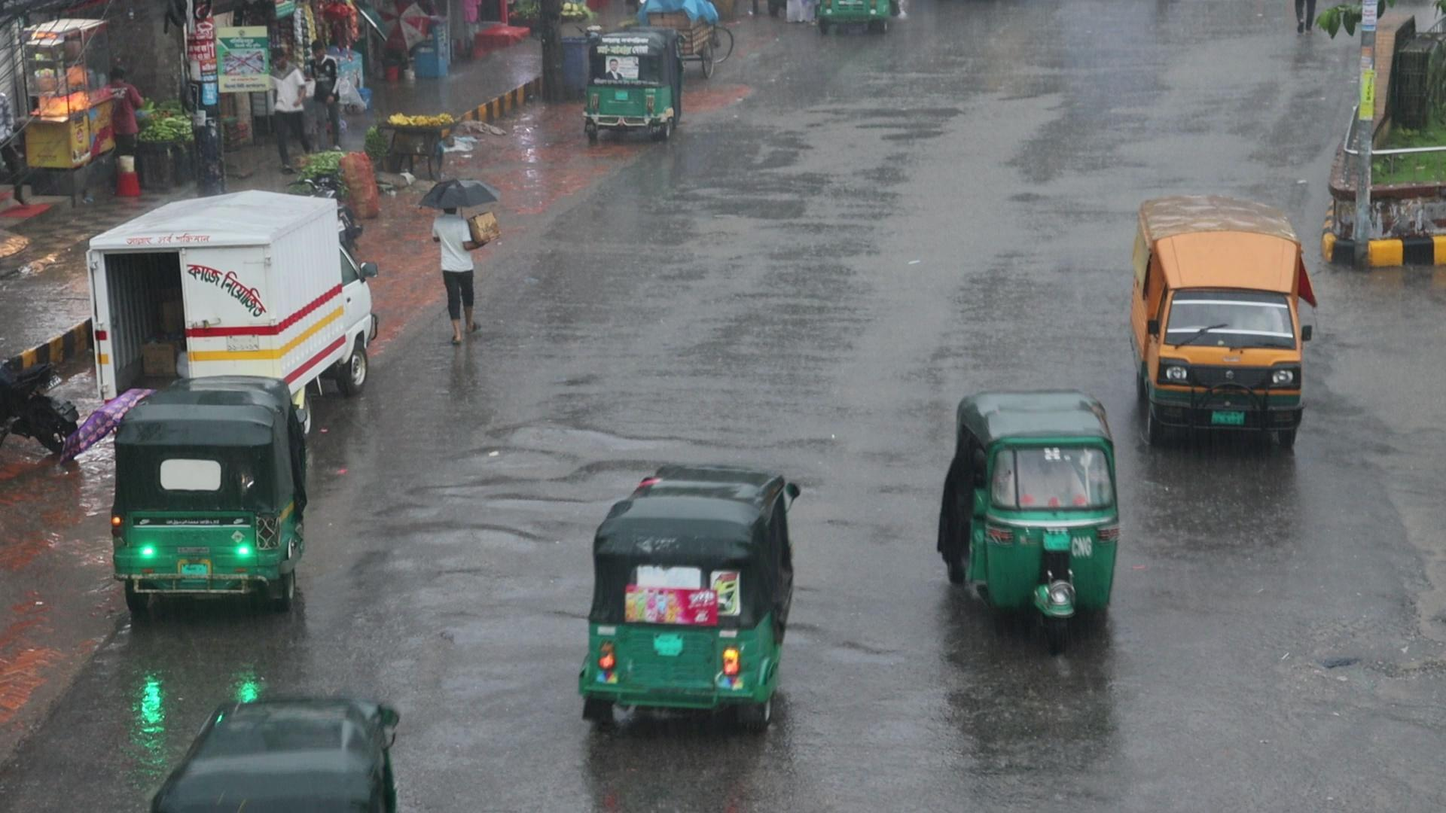Truck: (1128, 191, 1316, 452)
